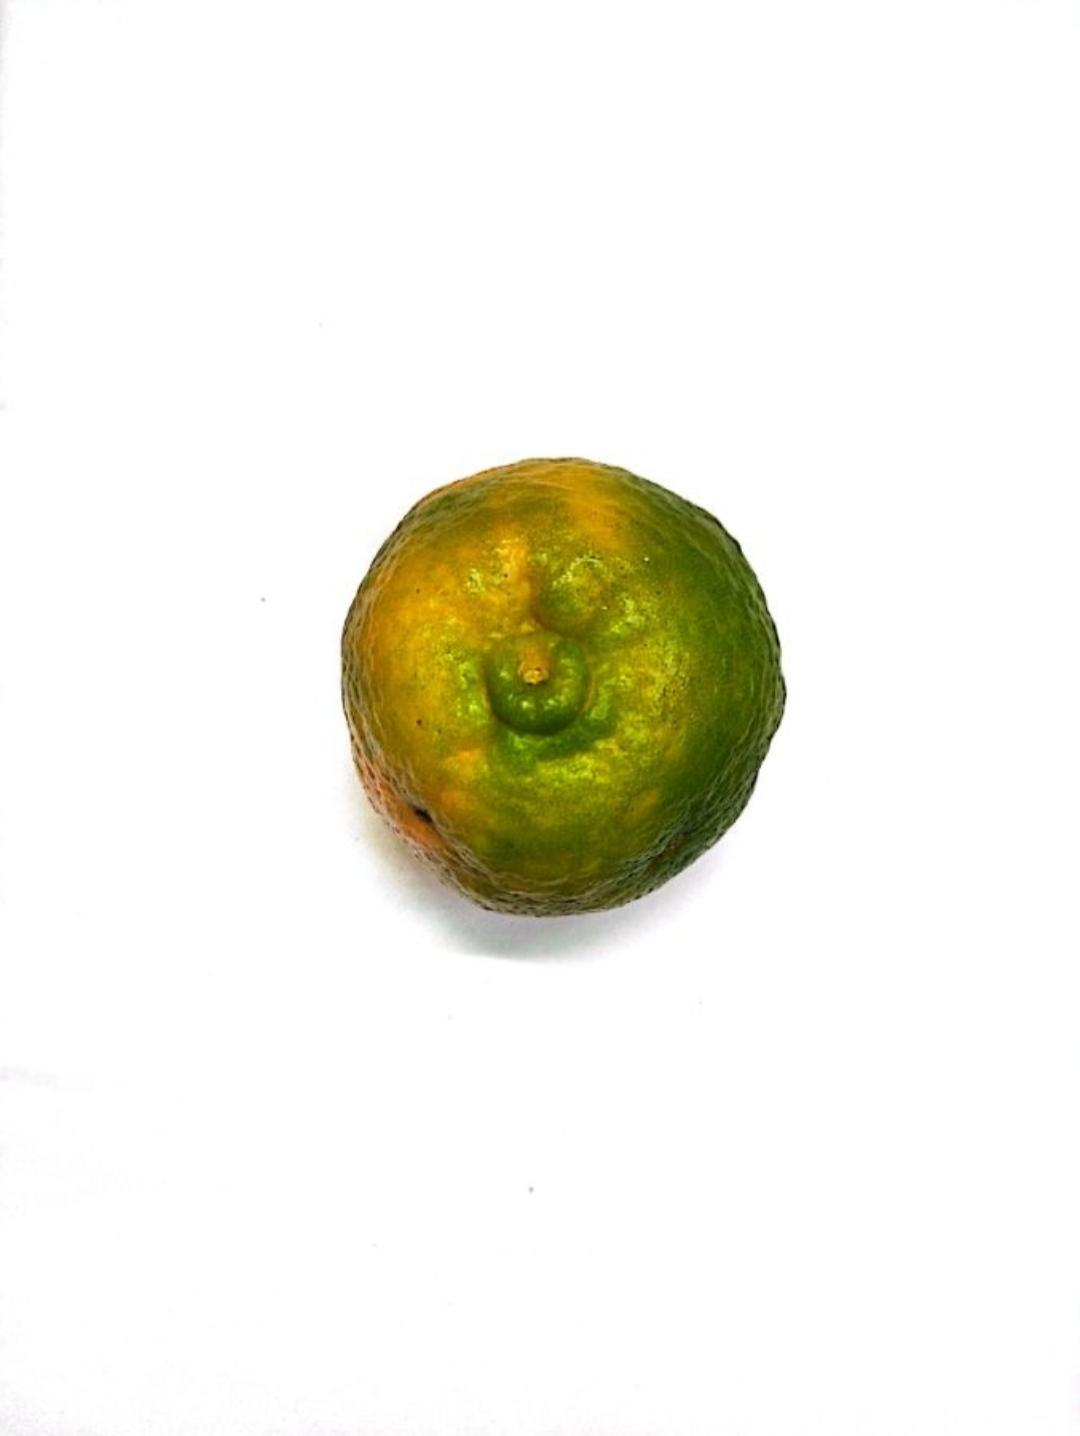Unripe: (340, 470, 767, 913)
